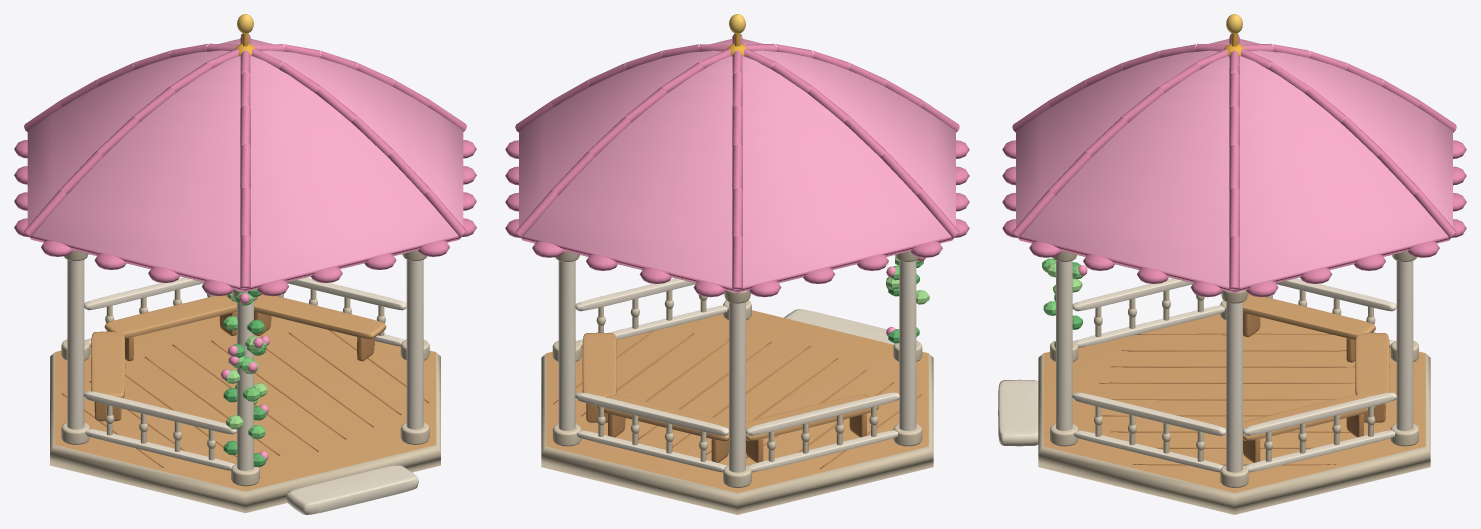
Rendered from gazebo.glb.
3 views of the same model, side by side, from view 1: azimuth 30°, elevation 25°; view 2: azimuth 150°, elevation 25°; view 3: azimuth 270°, elevation 25° (orthographic).
Parts seen in each view (by area): view 1: gazebo; view 2: gazebo; view 3: gazebo.
Part boxes in pixels (left/top/right/bottom): gazebo: left=14, top=14, right=476, bottom=514; gazebo: left=505, top=14, right=969, bottom=514; gazebo: left=998, top=14, right=1466, bottom=514.
Bounding box in the file's own units: 5.98 × 5.22 × 5.48.
1 material, 1 textured.
